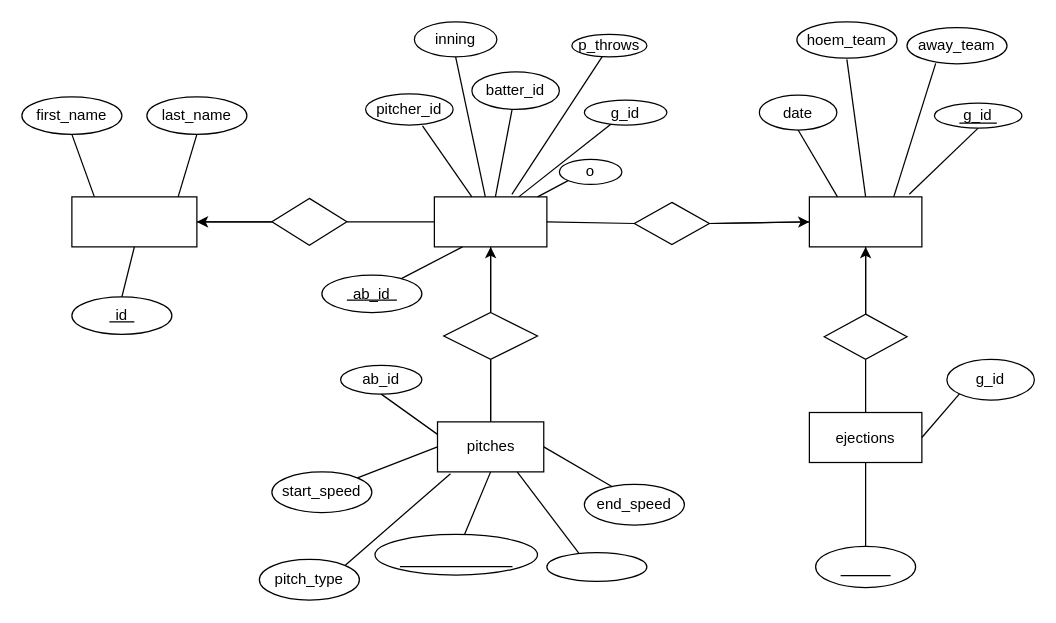
Image size: 1056x623. Some labels were removed from this diagram. Here are the shapes that lost their labels. From the top down, the centre of each, then its label:
At pixel 134 221: "player_names".
At pixel 490 221: "atbats".
At pixel 865 221: "games".
At pixel 456 554: "(ab_id,pitch_num)".
At pixel 596 566: "spin_rate".
At pixel 865 566: "des".
